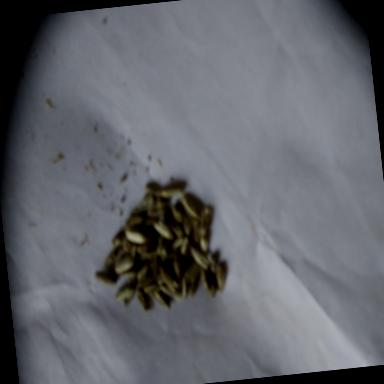pbw: (152, 220, 174, 241), (160, 265, 176, 292), (190, 244, 208, 268), (180, 195, 198, 218), (114, 254, 134, 274), (125, 228, 148, 244), (214, 265, 228, 291), (154, 290, 170, 310), (114, 286, 134, 302), (95, 270, 115, 286), (160, 184, 182, 198), (164, 286, 182, 302), (137, 289, 150, 311), (136, 264, 150, 282), (172, 254, 182, 279), (145, 182, 161, 196), (128, 213, 145, 226), (179, 235, 190, 254), (181, 216, 191, 236), (172, 223, 184, 238), (136, 244, 152, 255), (172, 208, 184, 222), (180, 278, 188, 296), (171, 238, 183, 249)
